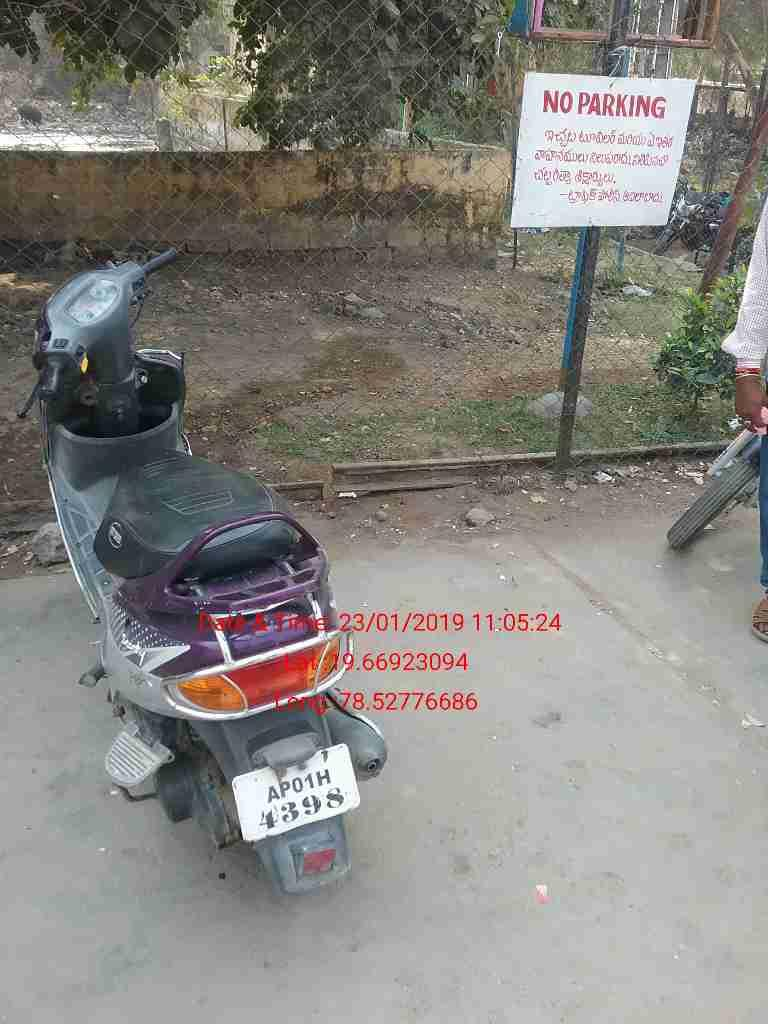plate: (229, 741, 365, 841)
